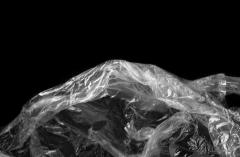plastic: (0, 59, 240, 157)
